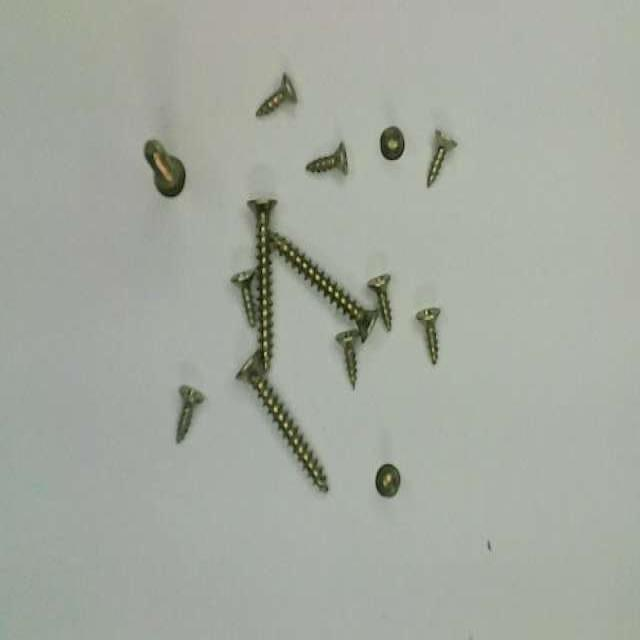Parafuso: (236, 355, 328, 493), (269, 231, 377, 341), (247, 199, 276, 370), (144, 140, 185, 197), (256, 74, 296, 117), (427, 130, 456, 187), (176, 386, 204, 442), (416, 308, 440, 365), (335, 330, 358, 389), (367, 274, 391, 330), (306, 142, 347, 174), (231, 270, 254, 326), (375, 464, 400, 497), (380, 127, 403, 159)
